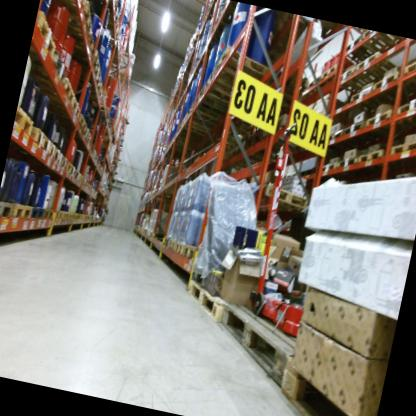pallet: (203, 284, 329, 394), (0, 179, 312, 223), (267, 357, 382, 416), (175, 269, 254, 332), (210, 45, 272, 99), (20, 63, 80, 106), (368, 61, 416, 113), (49, 18, 97, 61), (354, 47, 404, 88), (338, 31, 384, 73), (198, 62, 242, 105), (43, 0, 100, 33), (345, 81, 388, 124), (334, 63, 378, 105), (29, 42, 74, 82), (62, 112, 89, 177), (190, 86, 239, 121), (28, 89, 83, 119), (178, 104, 219, 141), (32, 7, 63, 50), (356, 139, 392, 175), (385, 130, 416, 169), (364, 106, 399, 137), (357, 29, 397, 54), (319, 63, 356, 90), (13, 102, 40, 136), (68, 47, 102, 74), (29, 122, 55, 157), (341, 111, 367, 143), (399, 43, 416, 89), (9, 198, 35, 227), (393, 87, 416, 119), (312, 156, 339, 181), (305, 72, 329, 100), (334, 150, 360, 175), (181, 241, 205, 266), (88, 42, 105, 68), (29, 202, 47, 226), (46, 142, 63, 164), (323, 124, 343, 142), (98, 84, 112, 106), (40, 204, 54, 224), (166, 234, 179, 254), (55, 152, 69, 169), (50, 208, 63, 224), (106, 114, 117, 132), (173, 240, 186, 255), (158, 232, 171, 247), (83, 122, 91, 144), (60, 207, 68, 222), (87, 132, 94, 147)
small_load_carrier: (318, 49, 336, 80), (328, 46, 345, 76)
